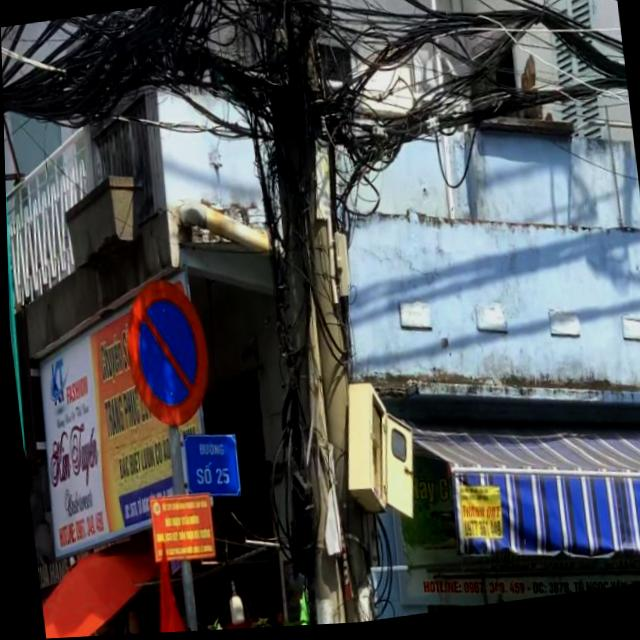Cam do xe: (115, 272, 213, 440)
